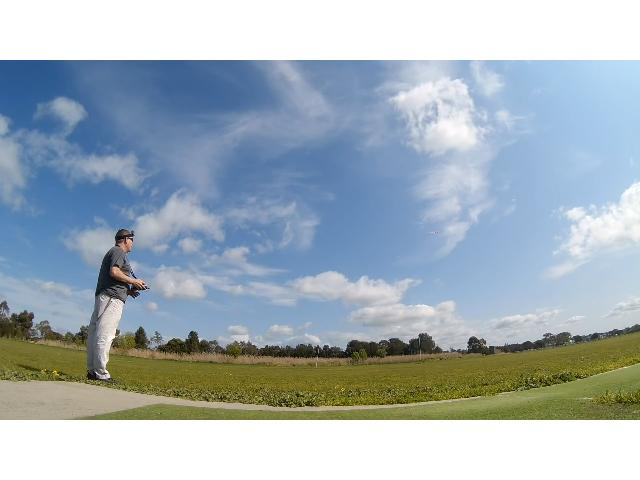Anti-Drone: (429, 230, 443, 234)
